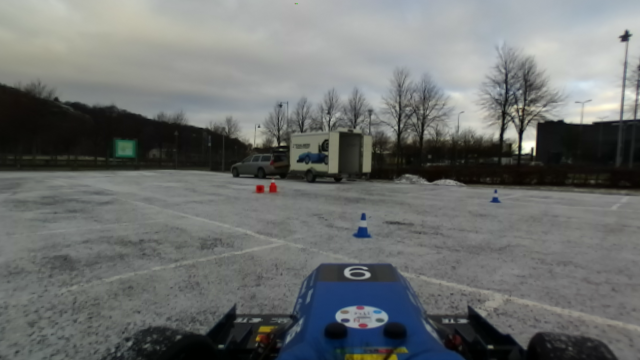blue: (352, 210, 372, 241)
